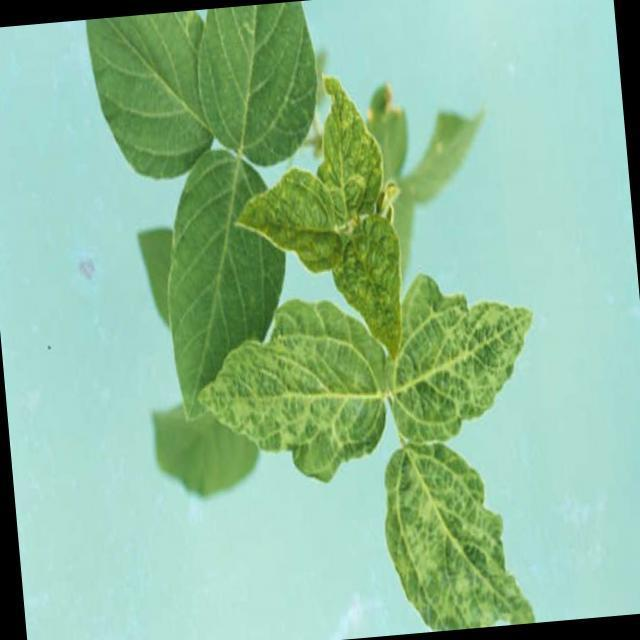Mosaic Virus: (384, 444, 539, 628), (382, 278, 548, 438), (206, 328, 390, 467), (236, 179, 335, 293), (321, 81, 388, 228), (338, 235, 408, 362)
